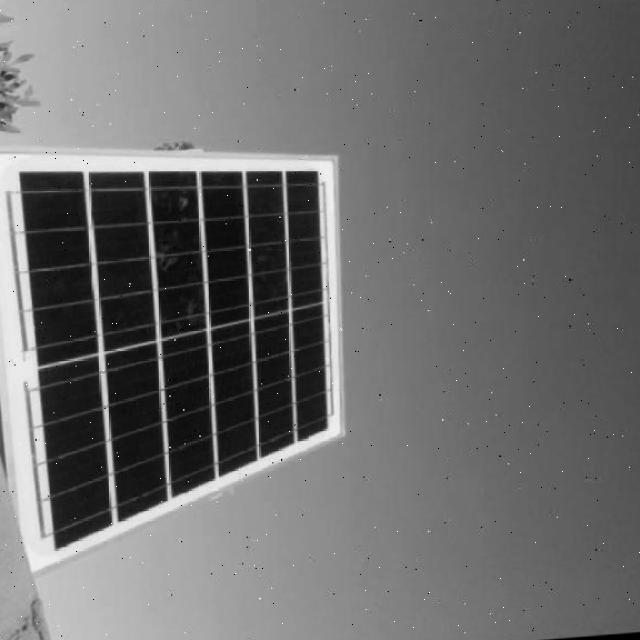Normal Solar Panel: (0, 112, 362, 568)
